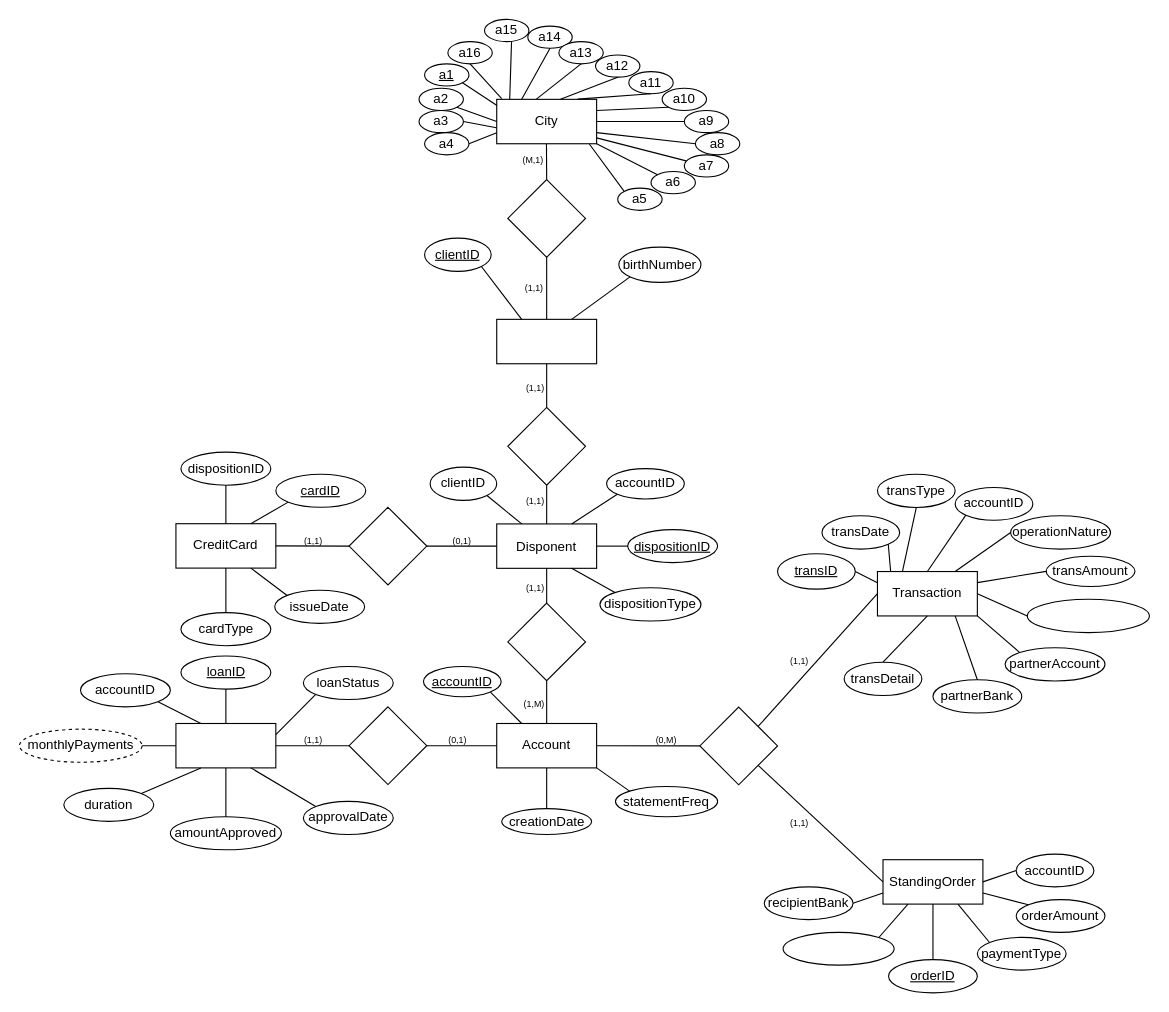
This 1169x1012 diagram has some shape labels left out. Each missing label, with the centre of its shape:
"Client" goes at [546,341].
"Dispones" goes at [546,445].
"Given" goes at [387,745].
"Loan" goes at [225,745].
"Makes" goes at [738,745].
"Offered" goes at [387,545].
"Owns" goes at [546,641].
"recipientAccount" goes at [838,948].
"remainingBalance" goes at [1087,615].
"Resides" goes at [546,217].
